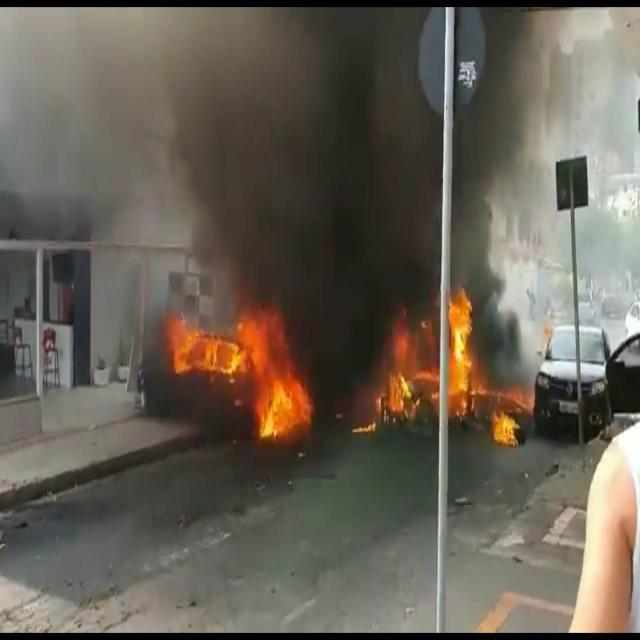Fire: (173, 306, 310, 440), (450, 289, 474, 418), (378, 365, 418, 418), (490, 411, 520, 449), (352, 418, 378, 436)
